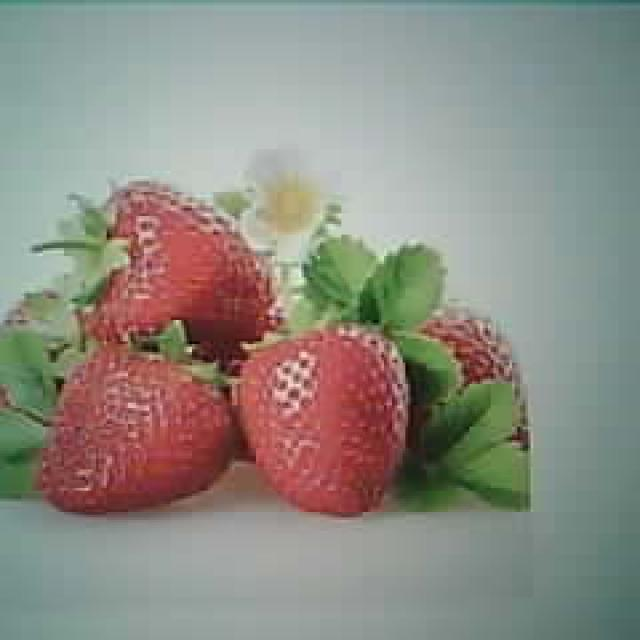Healthy Fruit: (79, 177, 303, 349), (229, 323, 410, 516), (39, 339, 235, 514)
